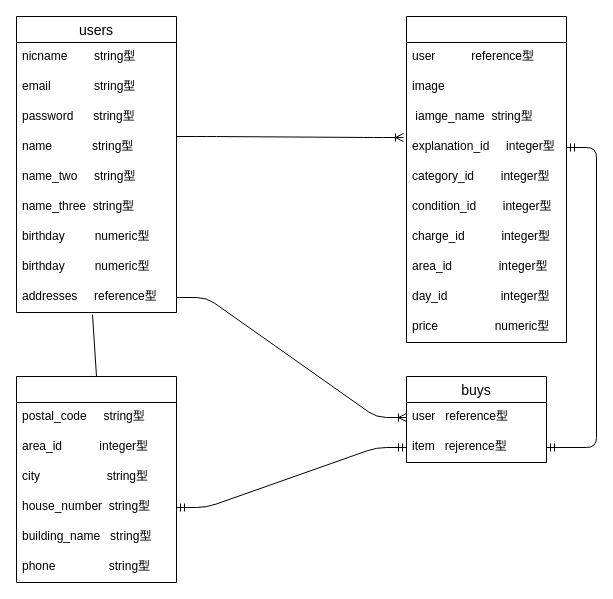
Image size: 613x599. Some labels were removed from this diagram. The shapes that lost their labels are listed below. From the top down, each one's box as (x1, y1, x2, y2) in pixels, then its label:
(406, 16, 566, 342): items
(16, 376, 176, 582): addresses
